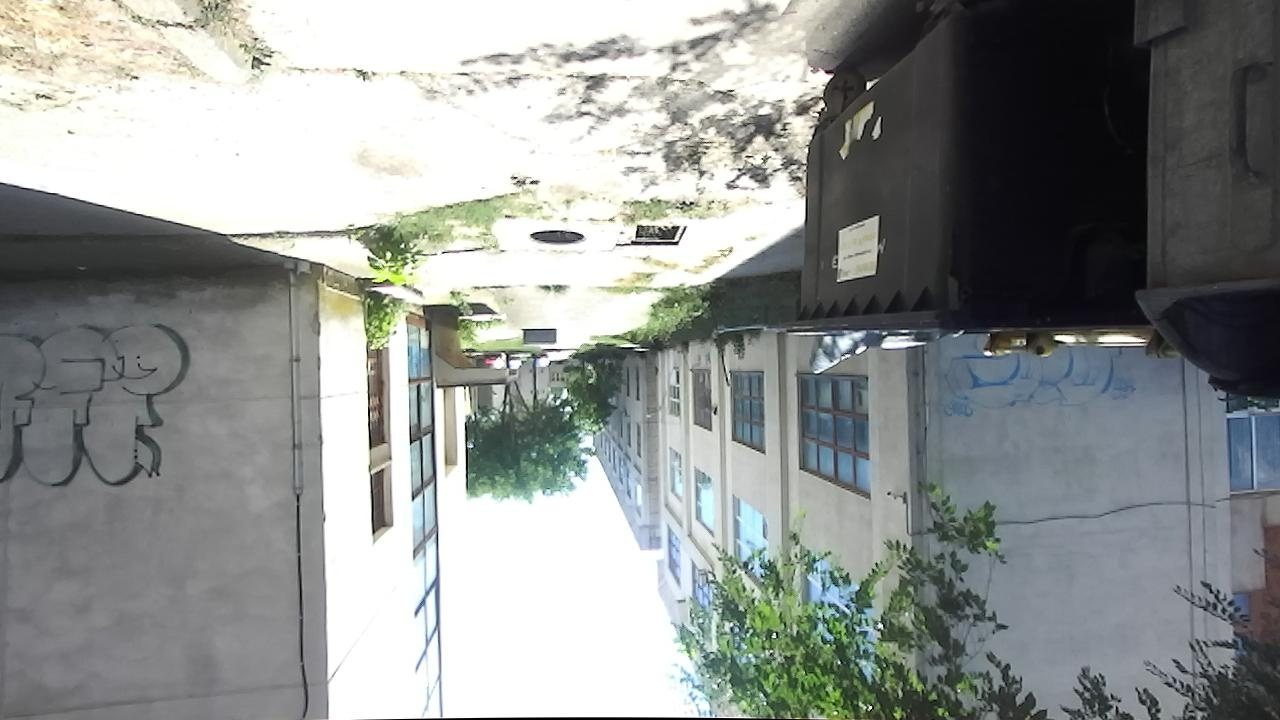drain: (630, 219, 691, 249), (527, 223, 592, 248)
